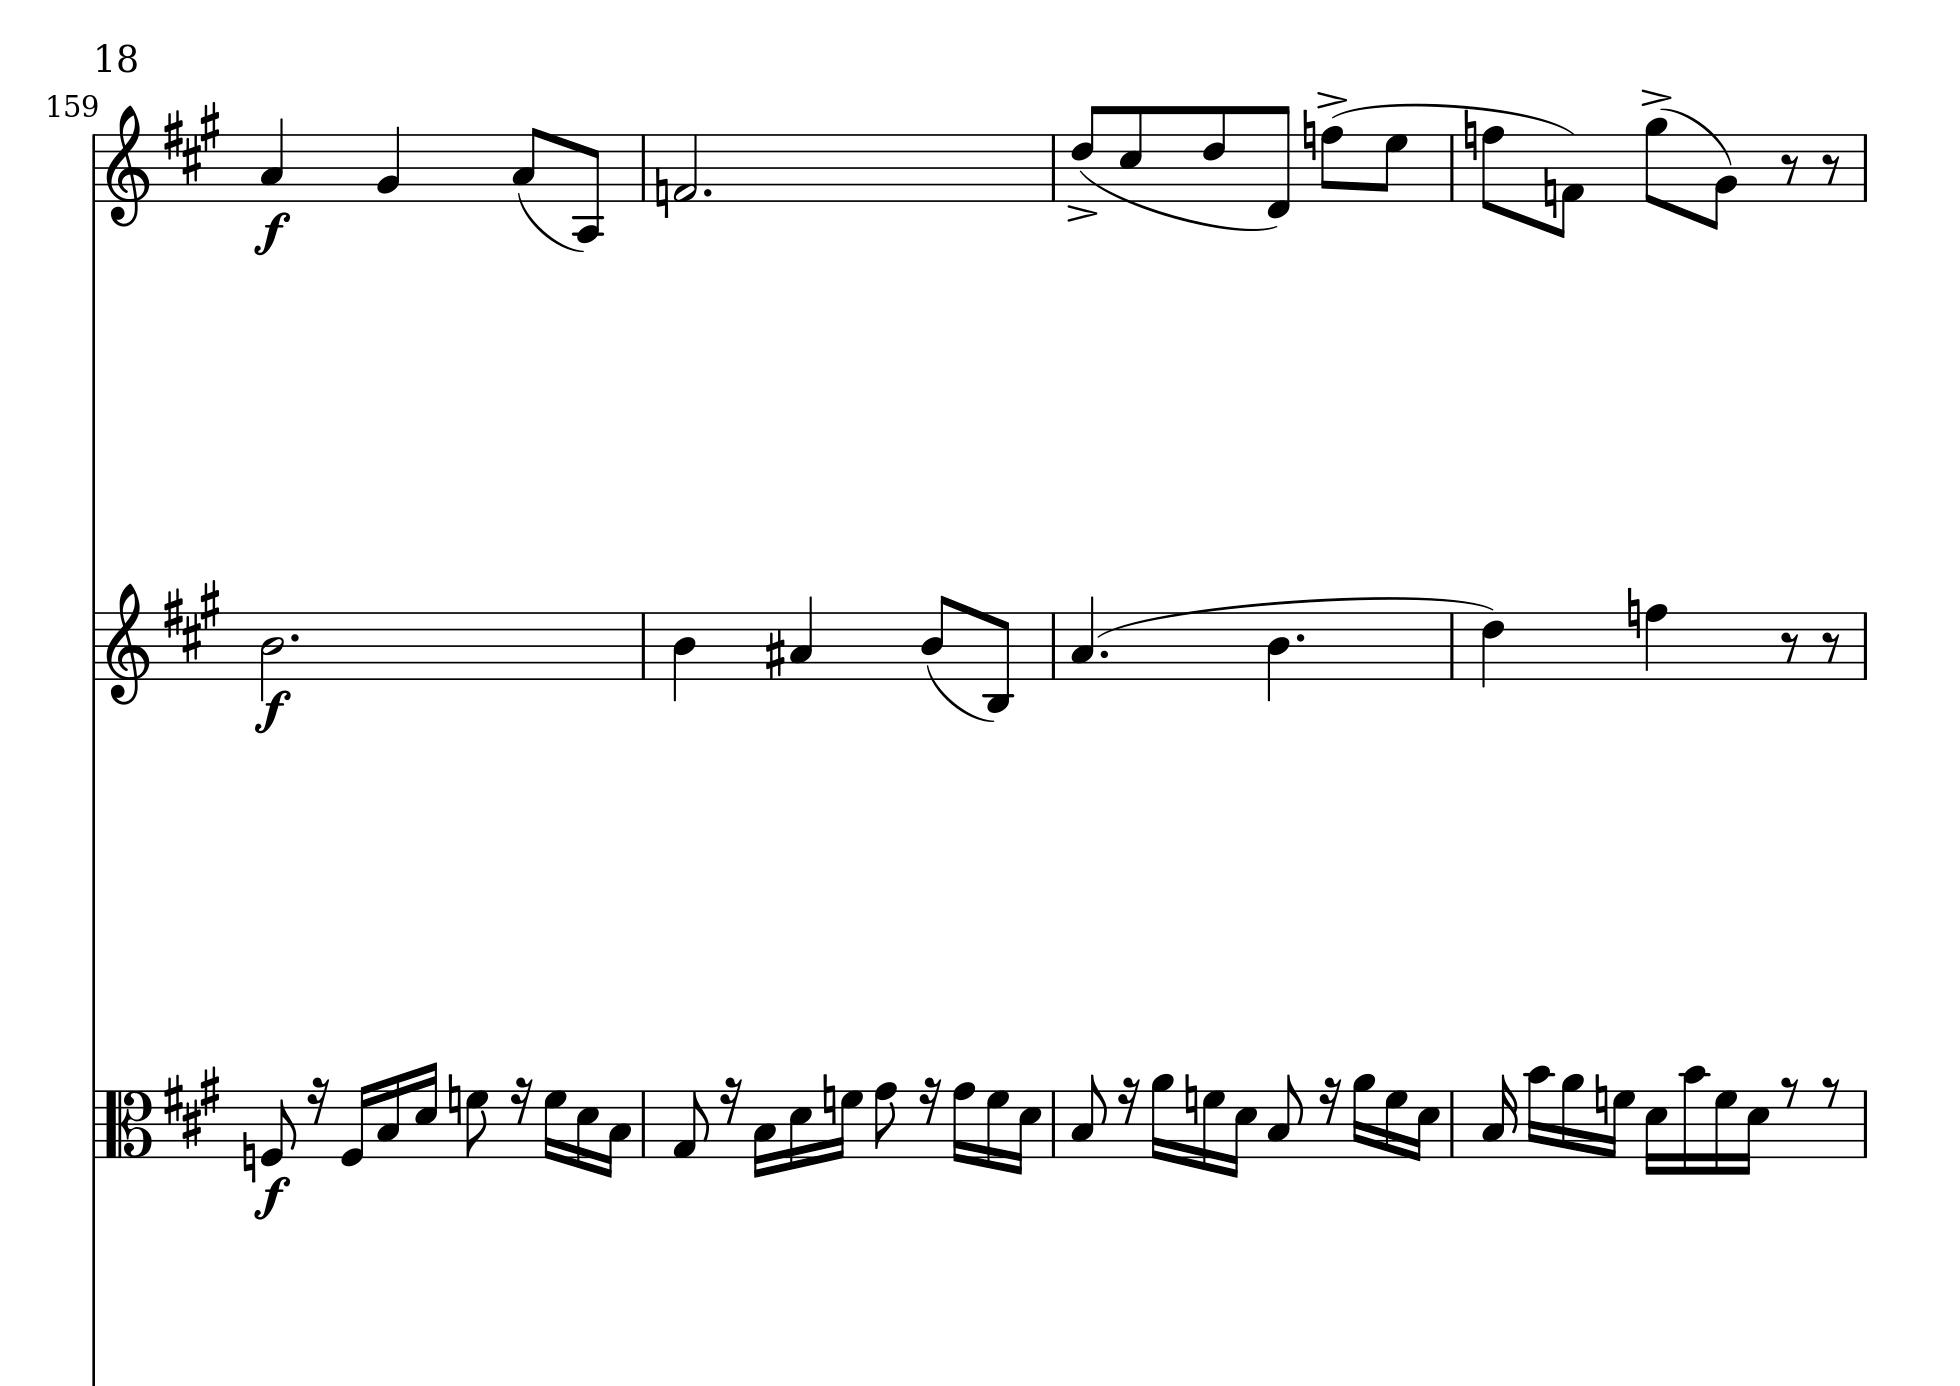1: (94, 40, 111, 73), (46, 91, 61, 118)
16_0: (337, 1081, 370, 1165)
16_1: (670, 1087, 708, 1158)
16_10: (1680, 1063, 1708, 1174), (1524, 1062, 1551, 1159)
16_3: (1480, 1072, 1518, 1156), (601, 1087, 631, 1177), (375, 1072, 400, 1158), (751, 1087, 775, 1177)
16_5: (1227, 1087, 1258, 1177), (1738, 1087, 1770, 1174), (1012, 1087, 1042, 1174), (1642, 1087, 1669, 1176), (414, 1059, 438, 1158), (1410, 1087, 1441, 1161), (787, 1087, 813, 1168), (574, 1087, 598, 1171)
16_7: (831, 1087, 862, 1161), (1603, 1087, 1635, 1159), (984, 1087, 1009, 1171), (1200, 1087, 1224, 1174), (1713, 1087, 1737, 1174), (541, 1087, 565, 1162), (1383, 1086, 1407, 1159)
16_8: (951, 1078, 973, 1164)
16_9: (1558, 1071, 1584, 1159), (1149, 1071, 1173, 1162), (1351, 1071, 1374, 1159)
2_1: (672, 130, 699, 201)
2_4: (258, 609, 285, 699)
4_2: (376, 123, 400, 202)
4_3: (259, 114, 286, 201), (787, 592, 814, 679), (1069, 592, 1095, 679)
4_4: (670, 609, 697, 703), (1264, 610, 1290, 702)
4_6: (1479, 610, 1506, 688), (1644, 600, 1668, 679)
5: (63, 90, 79, 118)
8: (115, 40, 139, 73)
8_-1: (1264, 103, 1293, 220)
8_-3: (984, 609, 1012, 714)
8_-4: (571, 130, 603, 244)
8_0: (259, 1087, 295, 1165)
8_1: (1557, 132, 1585, 238)
8_2: (1705, 132, 1738, 232)
8_3: (1069, 1071, 1107, 1158), (1266, 1071, 1303, 1156), (511, 124, 541, 202)
8_4: (919, 592, 951, 679)
8_5: (1119, 102, 1144, 202)
8_6: (1069, 100, 1102, 202), (1200, 102, 1227, 202)
8_7: (1374, 132, 1407, 202), (463, 1087, 489, 1156)
8_8: (1480, 124, 1506, 214), (1318, 123, 1344, 202), (871, 1080, 897, 1158)
8_9: (1642, 114, 1669, 205)
9: (79, 91, 97, 118)
A_S: (162, 577, 222, 663), (162, 100, 220, 184), (162, 1065, 220, 1149)
Accent_above: (1639, 85, 1674, 106), (1315, 88, 1350, 108), (1065, 202, 1099, 222)
Cclef: (103, 1087, 154, 1159)
Gclef: (103, 100, 151, 228), (103, 577, 151, 703)
Natural: (1299, 106, 1317, 163), (1182, 1072, 1200, 1126), (1461, 108, 1477, 163), (652, 163, 669, 217), (240, 1129, 256, 1183), (1593, 1071, 1608, 1126), (1626, 586, 1641, 640), (820, 1072, 835, 1126), (445, 1072, 460, 1125), (1542, 166, 1557, 217)
Rests16: (304, 1075, 330, 1125), (918, 1074, 942, 1125), (718, 1075, 742, 1125), (508, 1075, 532, 1123), (1318, 1074, 1341, 1125), (1117, 1075, 1140, 1125)
Rests8: (1779, 628, 1801, 663), (1779, 151, 1800, 186), (1821, 628, 1842, 663), (1821, 1074, 1842, 1108), (1821, 151, 1840, 186), (1780, 1074, 1800, 1108)
Sharp: (762, 627, 784, 681)
Single_barline: (1855, 133, 1875, 199), (1045, 133, 1063, 201), (1443, 133, 1461, 201), (634, 133, 652, 199), (1857, 612, 1875, 678), (634, 1090, 652, 1156), (634, 612, 651, 679), (85, 1090, 102, 1158), (1045, 612, 1062, 678), (1444, 612, 1461, 678), (1444, 1090, 1461, 1156), (1857, 1090, 1873, 1156), (85, 135, 100, 202), (85, 613, 100, 679), (1047, 1090, 1062, 1156)
Slur: (1098, 595, 1494, 640), (1081, 169, 1272, 235), (1335, 105, 1575, 132), (513, 190, 588, 253), (1659, 105, 1735, 166), (924, 661, 996, 723)
dot: (700, 184, 714, 199), (288, 630, 301, 643), (1294, 630, 1308, 643), (1098, 646, 1110, 660)
f: (249, 208, 292, 256), (250, 688, 292, 735), (253, 1174, 291, 1219)
